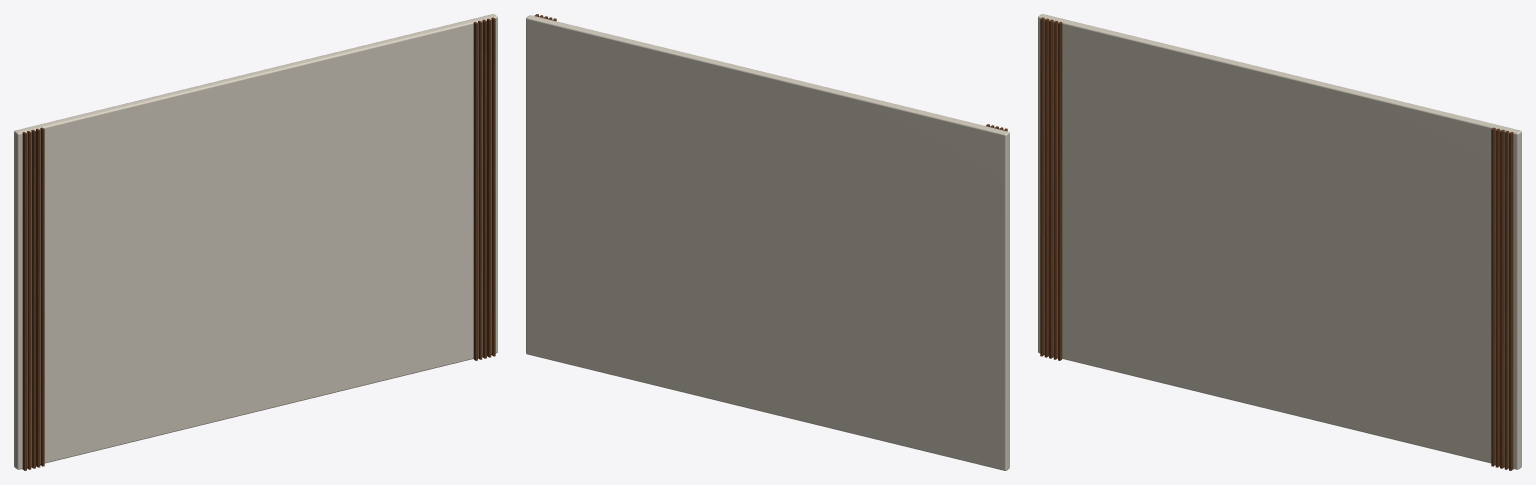
Rendered from linen-headboard-panel.glb.
3 views of the same model, side by side, from view 1: azimuth 30°, elevation 25°; view 2: azimuth 150°, elevation 25°; view 3: azimuth 330°, elevation 25° (orthographic).
Parts seen in each view (by area): view 1: Headboard wall inset, Restrained walnut slats; view 2: Headboard wall inset; view 3: Headboard wall inset, Restrained walnut slats.
Part boxes in pixels (left/top/right/bottom): Headboard wall inset: left=14, top=14, right=497, bottom=469; Restrained walnut slats: left=22, top=17, right=495, bottom=470; Headboard wall inset: left=526, top=15, right=1009, bottom=470; Headboard wall inset: left=1038, top=14, right=1521, bottom=469; Restrained walnut slats: left=1040, top=17, right=1513, bottom=470.
Size of the model in its own units: 1.94 by 1.3 by 0.0465.
2 materials, 1 textured.
